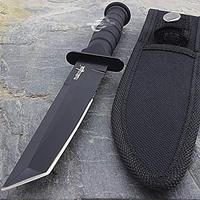knife: (1, 4, 125, 196)
